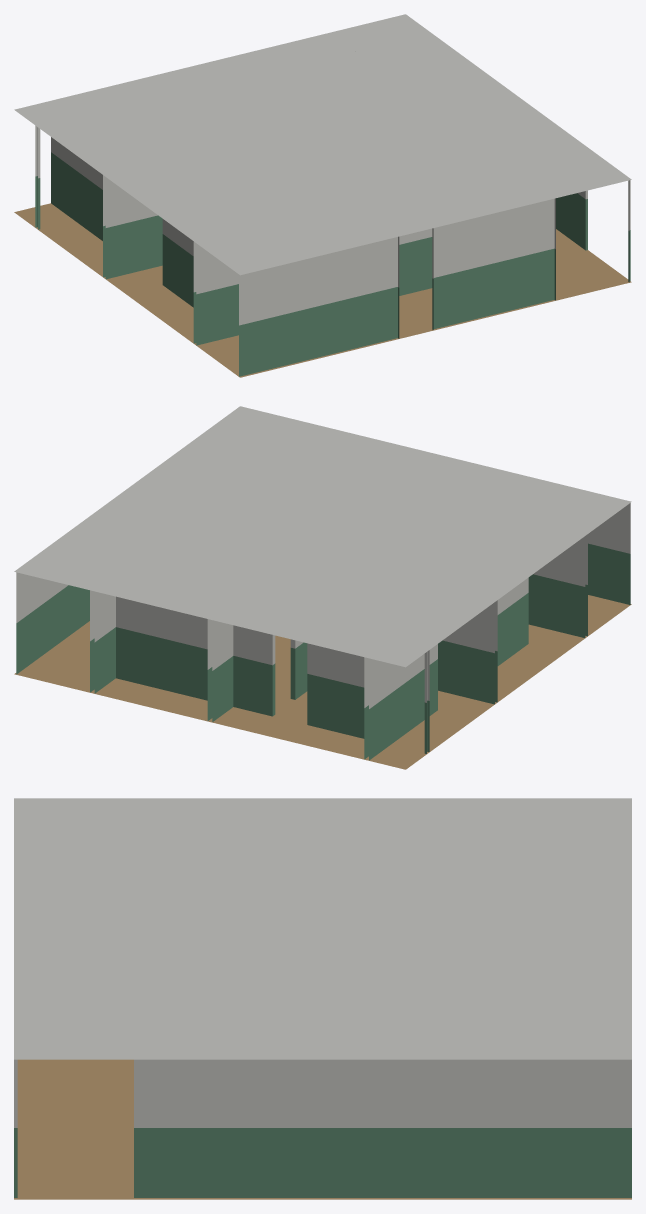
Rendered from chunk_1_2.glb.
3 views of the same model, one above another, from view 1: azimuth 30°, elevation 25°; view 2: azimuth 150°, elevation 25°; view 3: azimuth 270°, elevation 25° (orthographic). The views are drawn at different scales.
Visible parts, largest first — view 1: chunk_1_2; view 2: chunk_1_2; view 3: chunk_1_2.
Part boxes in pixels (left/top/right/bottom): chunk_1_2: left=14, top=14, right=631, bottom=377; chunk_1_2: left=14, top=406, right=631, bottom=769; chunk_1_2: left=14, top=798, right=631, bottom=1199.
Size of the model in its own units: 12 by 3 by 12.
